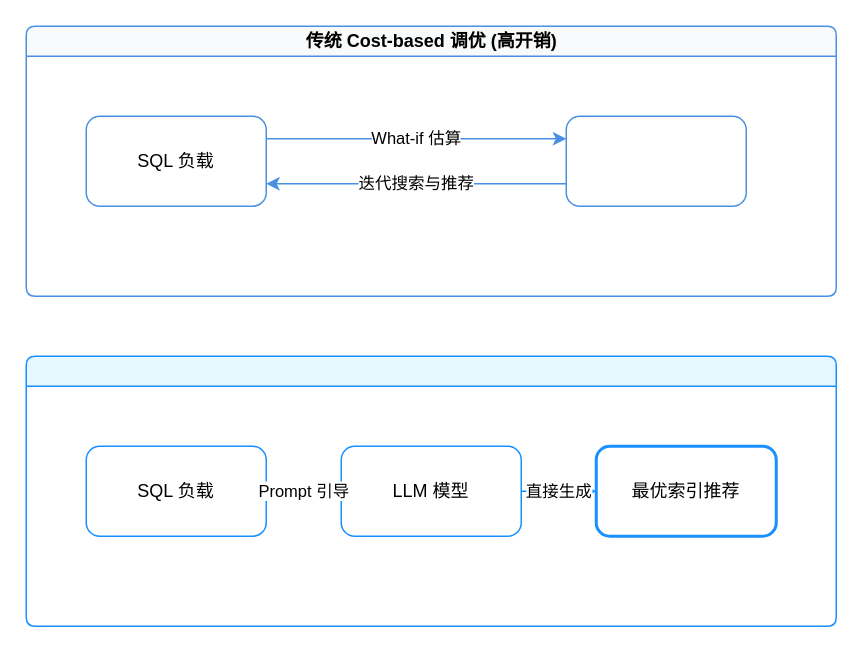
The diagram is 863 pixels wide and 653 high, and some of its shapes have lost their labels. Here are the shapes that lost their labels. From the top down, the box of each, then its label:
(565, 115, 746, 206): 查询优化器
(25, 355, 836, 626): 全新 LLM 知识驱动调优 (秒级响应)
